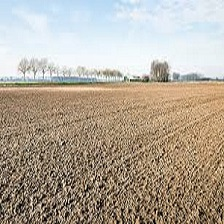clay_soil: (11, 55, 205, 197)
